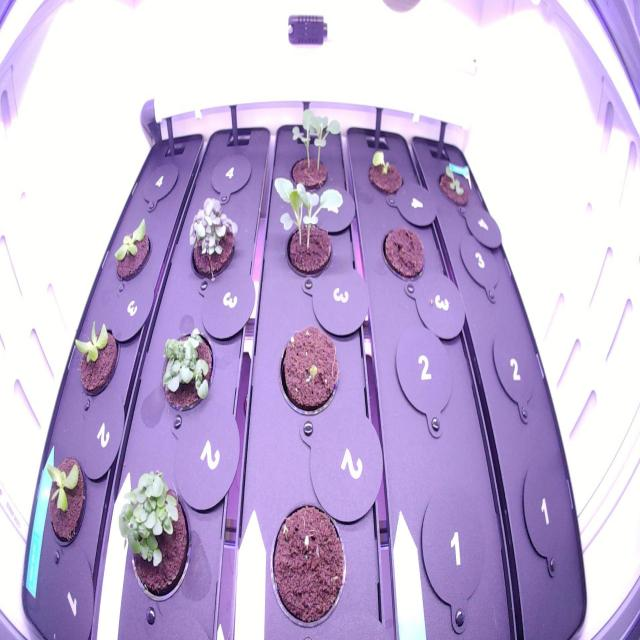empty_pod: (415, 480, 493, 626), (388, 318, 458, 427), (514, 451, 574, 577), (484, 326, 543, 423), (454, 220, 507, 300), (204, 141, 256, 206), (136, 149, 183, 209)
germination: (262, 488, 358, 640), (265, 172, 344, 294), (270, 316, 344, 424), (280, 100, 344, 198), (155, 323, 219, 416)
pod: (376, 220, 430, 288)
young: (36, 448, 96, 562), (68, 309, 125, 412), (108, 212, 156, 286), (434, 158, 476, 215), (364, 147, 406, 201)
